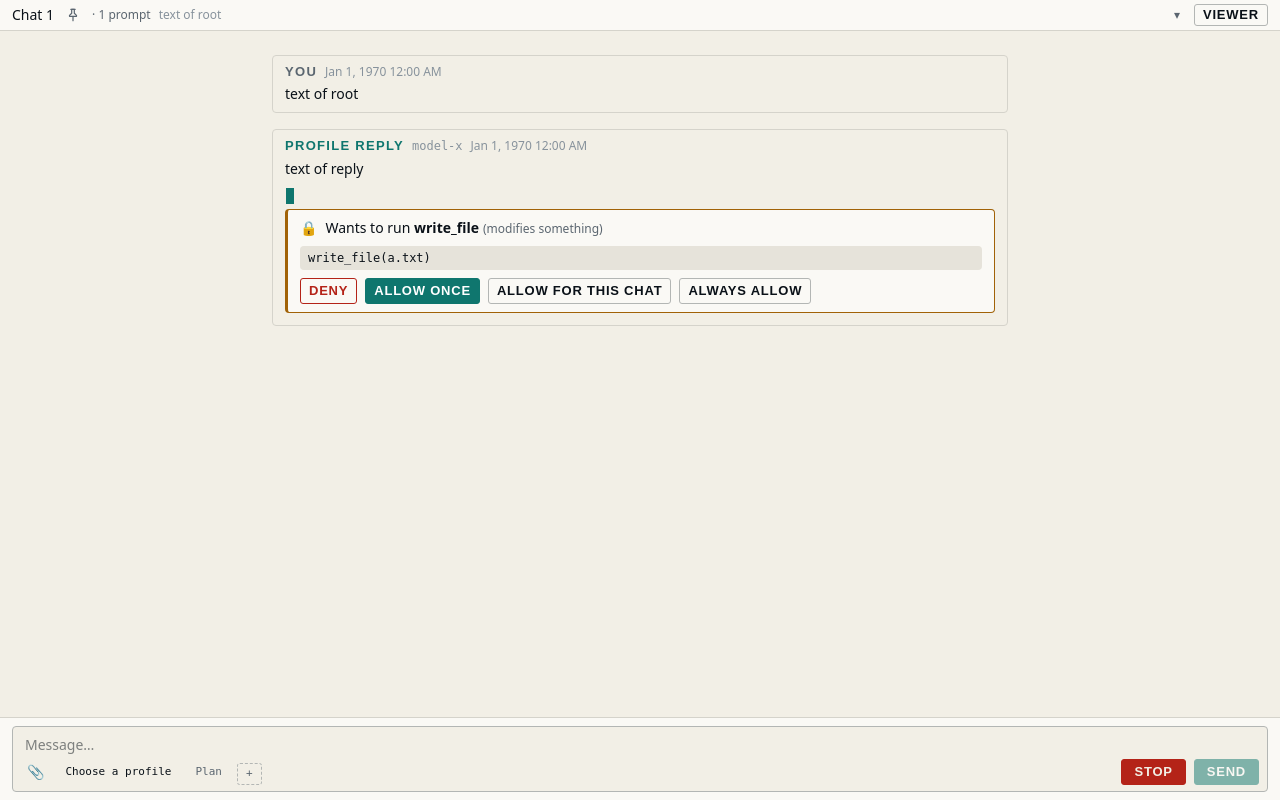
Test: Thread approval prompts that were discarded server-side › keeps the prompt (and lets the user retry) on any other failure
What coordinates should you click on to do the following:
click the button with test id "approval-deny"
I would click on:
 (329, 291)
Its box is 300,278 -> 357,304.
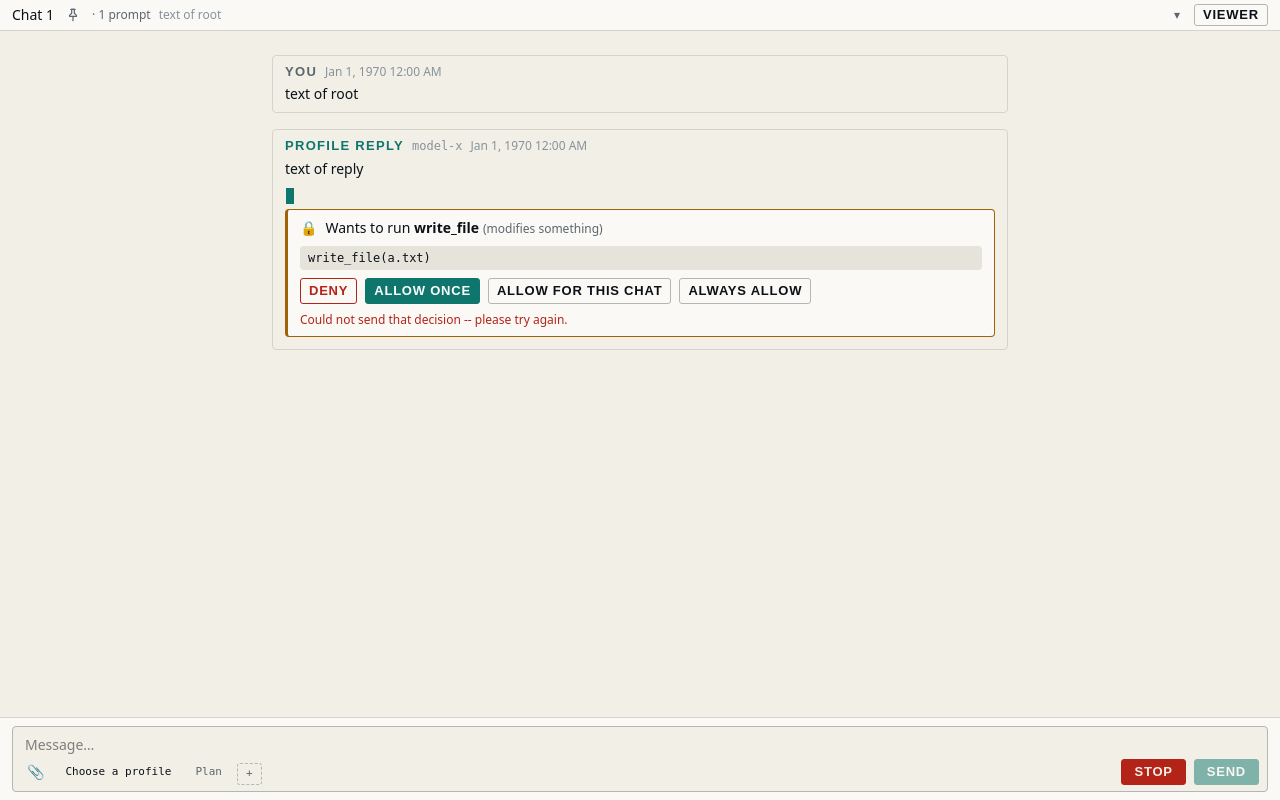
expect the message with test id "approval-prompt-req-1" is shown: met, box 285,209 -> 995,337
expect the text "Could not send that decision -- please try again." is shown: met, box 300,311 -> 568,328
